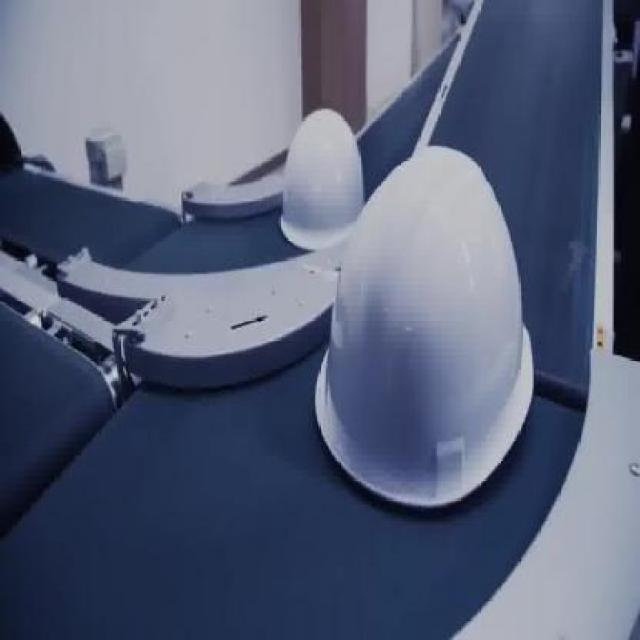Helmet: (314, 142, 535, 516), (278, 103, 366, 254)
